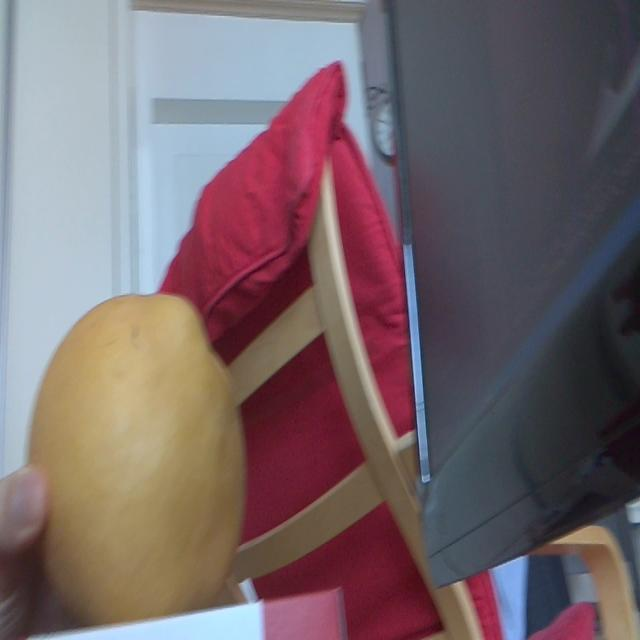pear: (27, 292, 243, 606)
